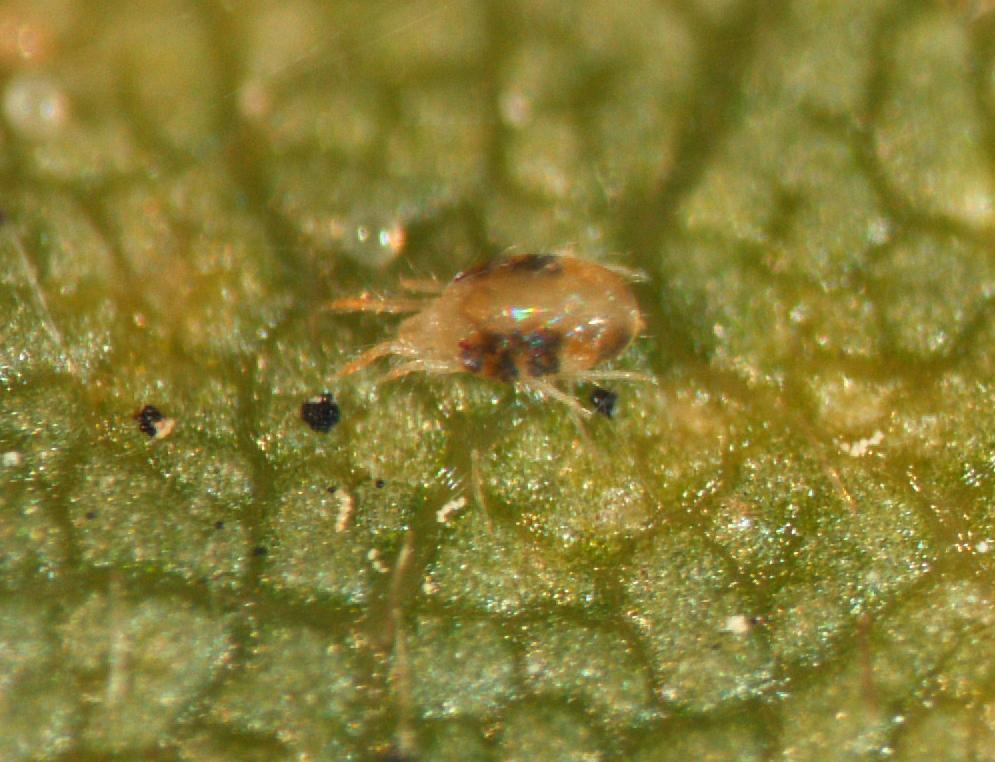Mites: (324, 231, 717, 415)
